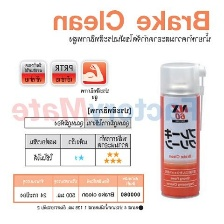aerosol_cans: (157, 60, 208, 201)
